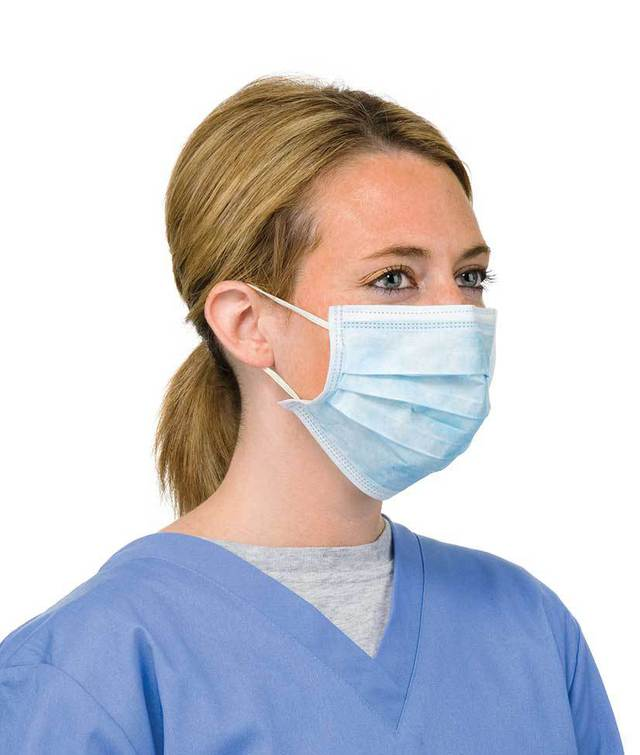mask: (313, 315, 507, 501)
